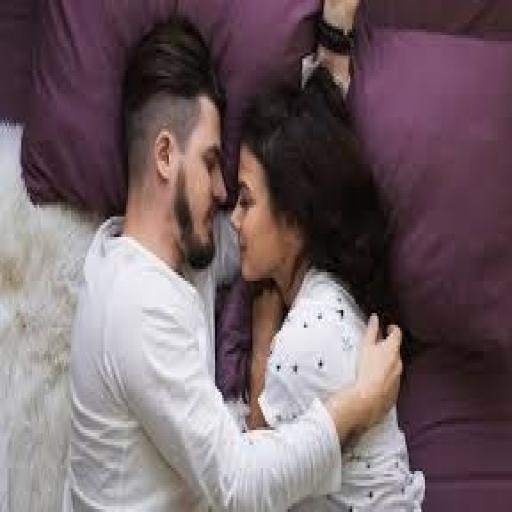hugging: (60, 12, 412, 509)
